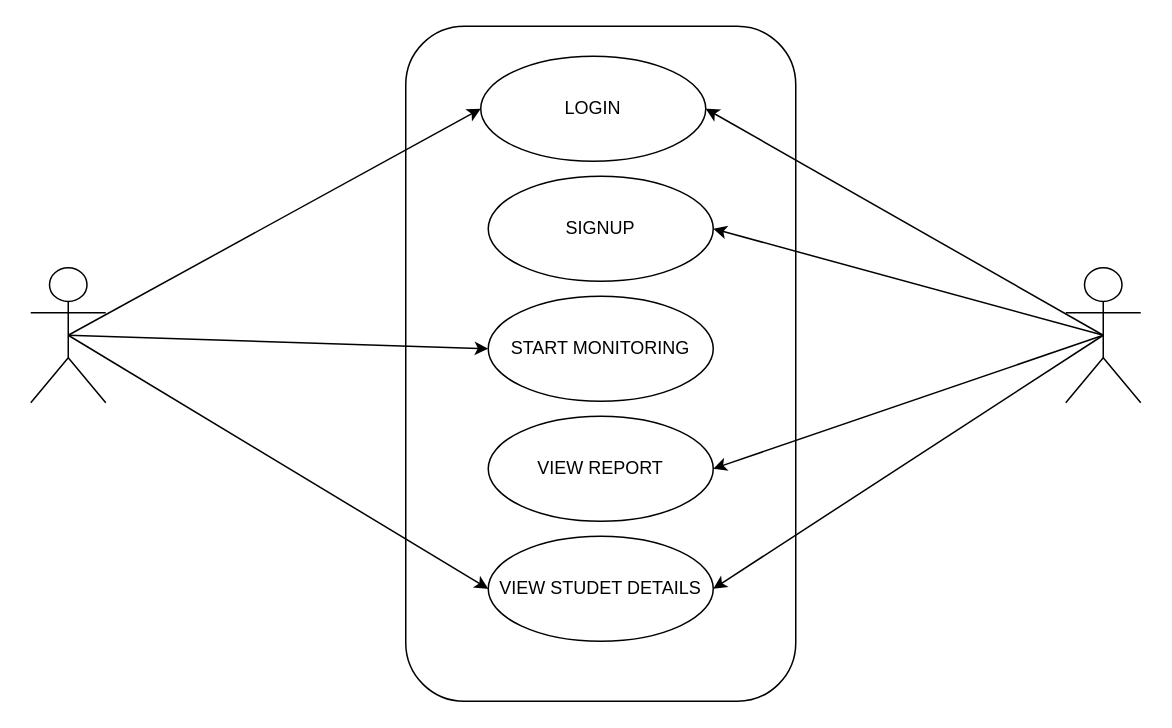
Some shapes in this 1172 by 728 pixel diagram are drawn without their labels. Here are the shapes that lost their labels. From the top down, the box of each, then its label:
(29, 266, 106, 403): STUDENT
(1064, 266, 1141, 403): TEACHER
